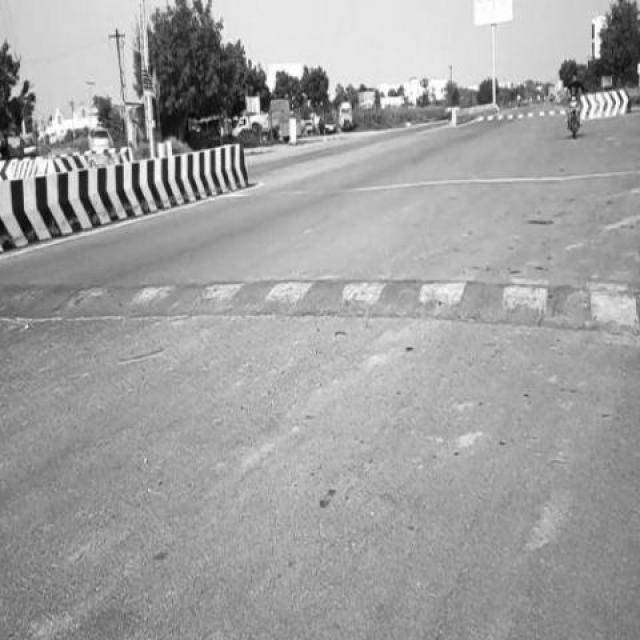Speed Bump: (0, 276, 639, 341), (476, 108, 564, 124)
